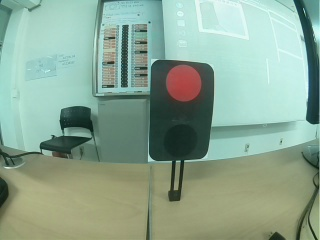red_light: (149, 58, 212, 163)
